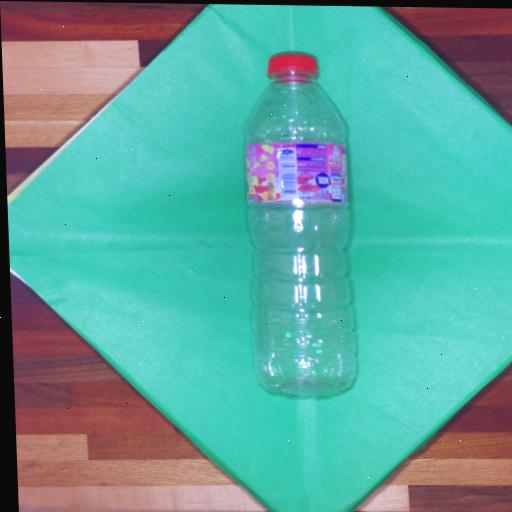bottle: (220, 25, 375, 419)
